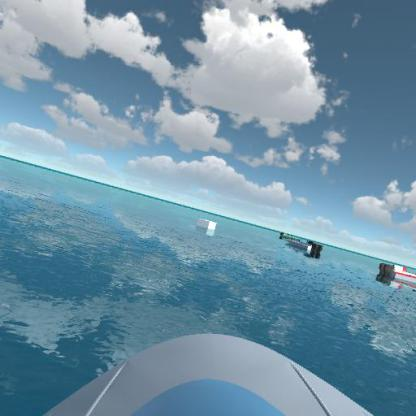usv0: (275, 226, 302, 244)
usv1: (287, 238, 328, 260)
usv3: (377, 258, 415, 294)
